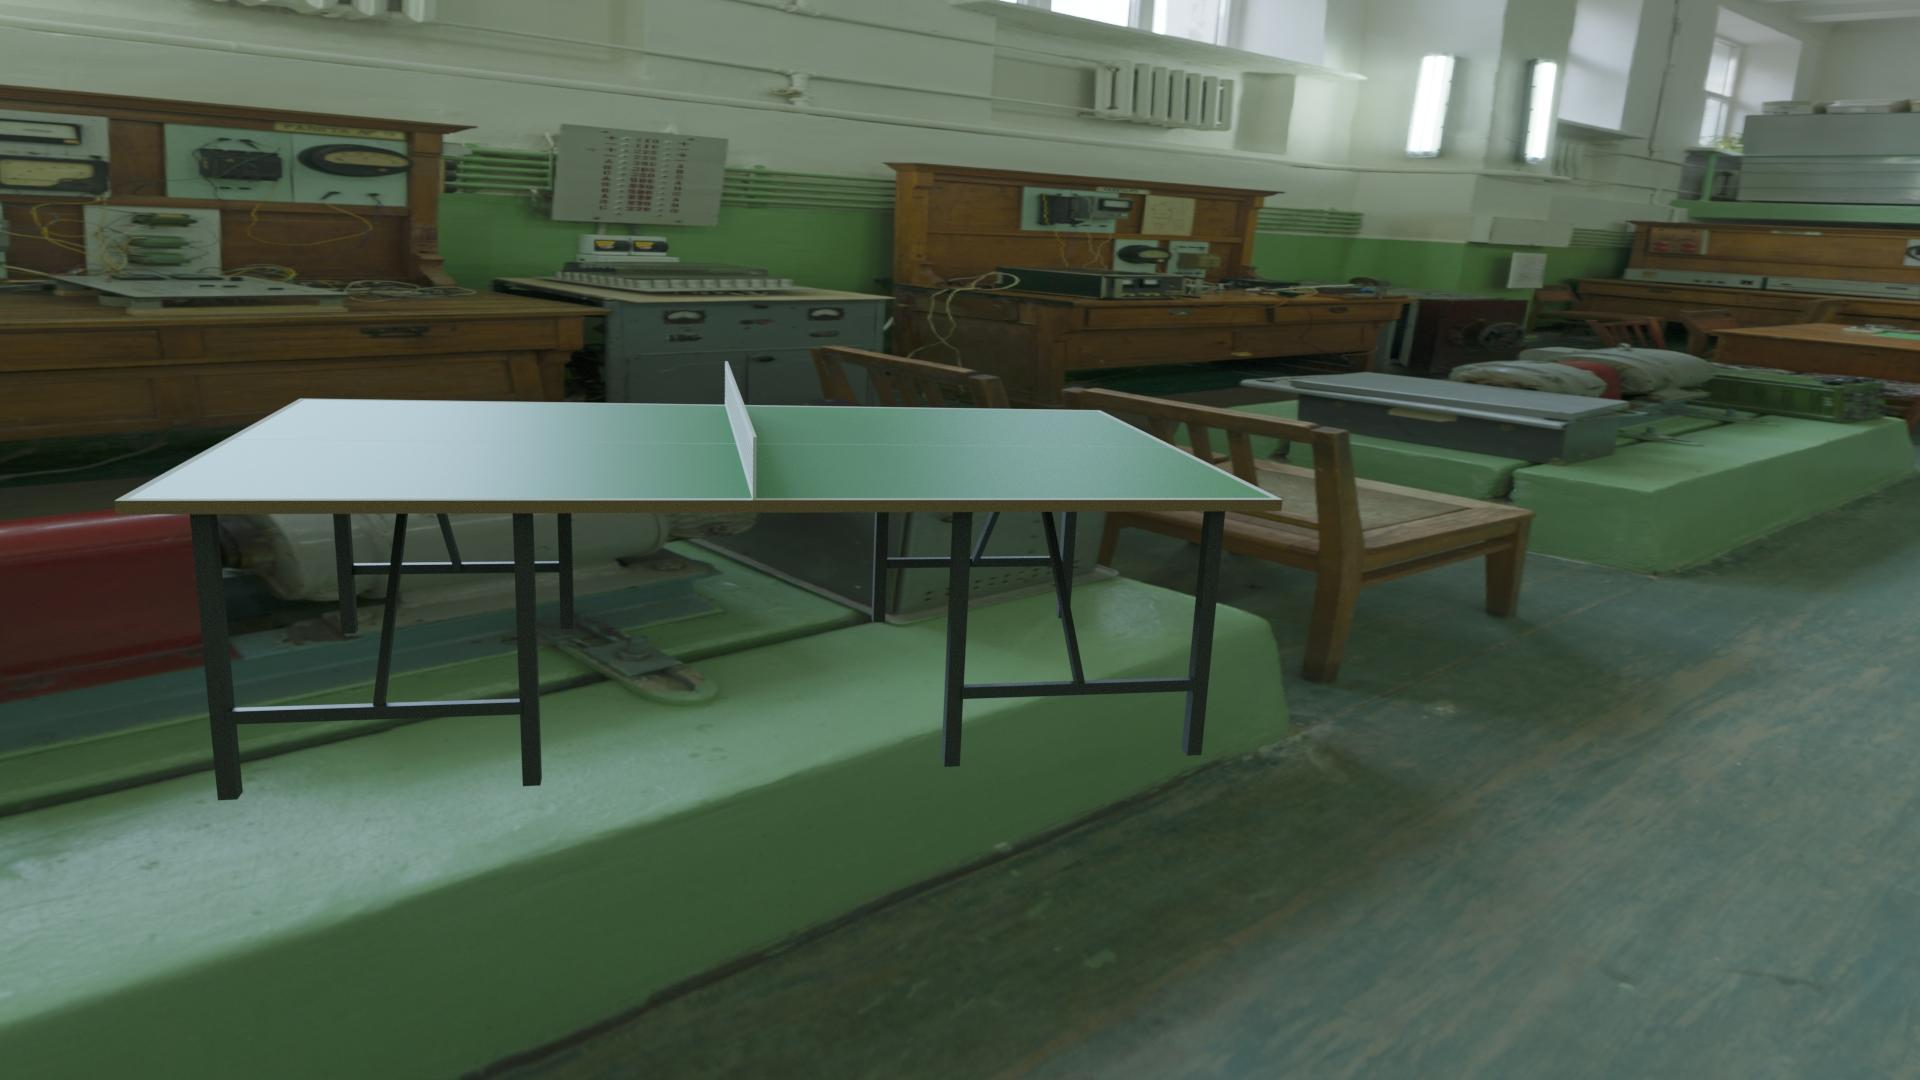table: (128, 400, 1273, 498)
